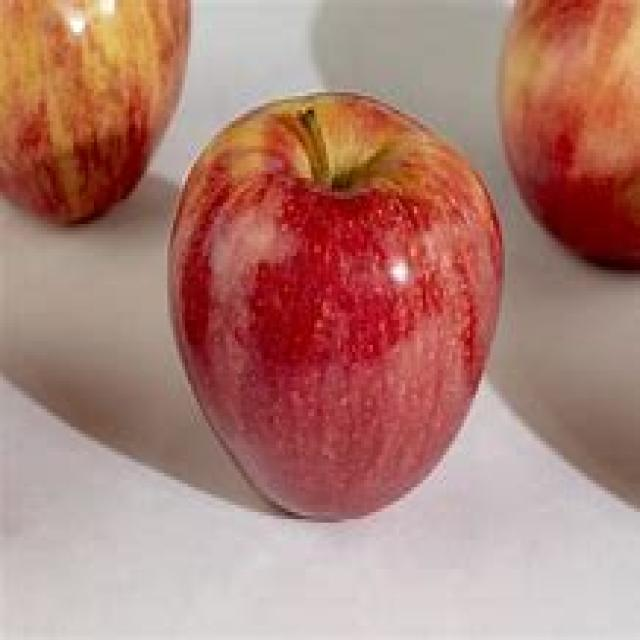apple: (164, 88, 507, 528)
